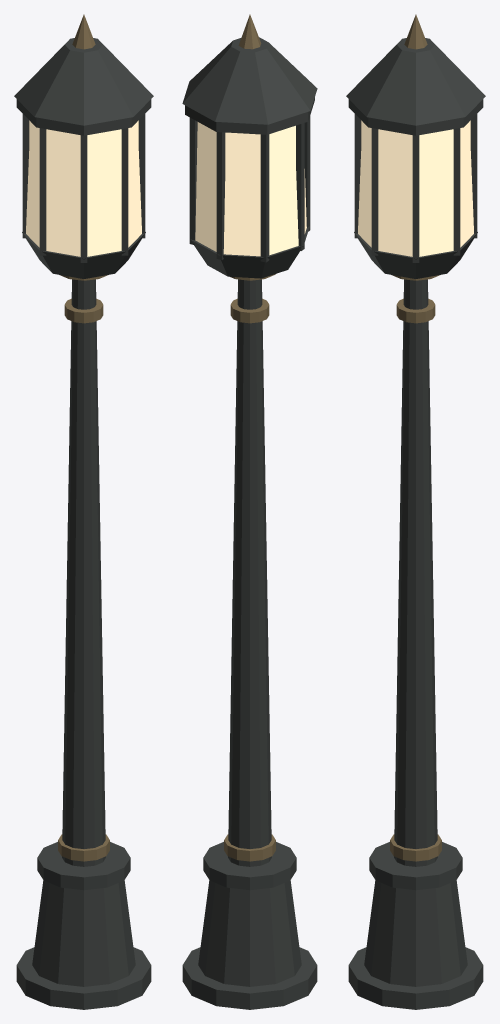
Rendered from laterne32.glb.
The picture shows the model from 3 angles, left to right: view 1: azimuth 90°, elevation 25°; view 2: azimuth 150°, elevation 25°; view 3: azimuth 270°, elevation 25°; orthographic projection.
Visible parts, largest first — view 1: Mast, Leuchtkoerper Glas, Sockel, Laternenhaube, Sockelplatte, Sockelring, Laternenfuss, Dachkante, Fenstersteg.004, Fenstersteg.003, Fenstersteg.005, Fenstersteg.002 (+4 smaller); view 2: Mast, Leuchtkoerper Glas, Sockel, Laternenhaube, Sockelplatte, Sockelring, Laternenfuss, Dachkante, Fenstersteg.003, Fenstersteg.002, Fenstersteg.004, Fenstersteg.001 (+4 smaller); view 3: Mast, Leuchtkoerper Glas, Sockel, Laternenhaube, Sockelplatte, Sockelring, Laternenfuss, Dachkante, Fenstersteg, Fenstersteg.001, Fenstersteg.007, Fenstersteg.002 (+4 smaller).
Boxes of the visible parts, box(x1,y1,x2,y2) form: Mast: box(62, 279, 105, 866); Leuchtkoerper Glas: box(26, 120, 141, 256); Sockel: box(32, 880, 135, 986); Laternenhaube: box(14, 38, 153, 125); Sockelplatte: box(16, 947, 151, 1009); Sockelring: box(37, 842, 130, 890); Laternenfuss: box(22, 232, 145, 278); Dachkante: box(16, 99, 151, 135); Fenstersteg.004: box(80, 135, 87, 262); Fenstersteg.003: box(39, 128, 46, 255); Fenstersteg.005: box(121, 128, 128, 255); Fenstersteg.002: box(22, 114, 29, 238); Mast: box(228, 279, 271, 866); Leuchtkoerper Glas: box(195, 122, 306, 256); Sockel: box(198, 880, 301, 986); Laternenhaube: box(182, 37, 317, 124); Sockelplatte: box(182, 947, 317, 1009); Sockelring: box(203, 842, 296, 890); Laternenfuss: box(190, 226, 309, 278); Dachkante: box(185, 97, 314, 134); Fenstersteg.003: box(260, 134, 269, 262); Fenstersteg.002: box(216, 132, 225, 259); Fenstersteg.004: box(296, 123, 304, 250); Fenstersteg.001: box(189, 117, 197, 244); Mast: box(394, 279, 437, 866); Leuchtkoerper Glas: box(358, 120, 473, 256); Sockel: box(364, 880, 467, 986); Laternenhaube: box(346, 38, 485, 125); Sockelplatte: box(348, 947, 483, 1009); Sockelring: box(369, 842, 462, 890); Laternenfuss: box(354, 232, 477, 278); Dachkante: box(348, 99, 483, 135); Fenstersteg: box(412, 135, 419, 262); Fenstersteg.001: box(453, 128, 460, 255); Fenstersteg.007: box(371, 128, 378, 255); Fenstersteg.002: box(470, 114, 477, 238).
Size of the model in its own units: 0.54 by 4.12 by 0.54.
